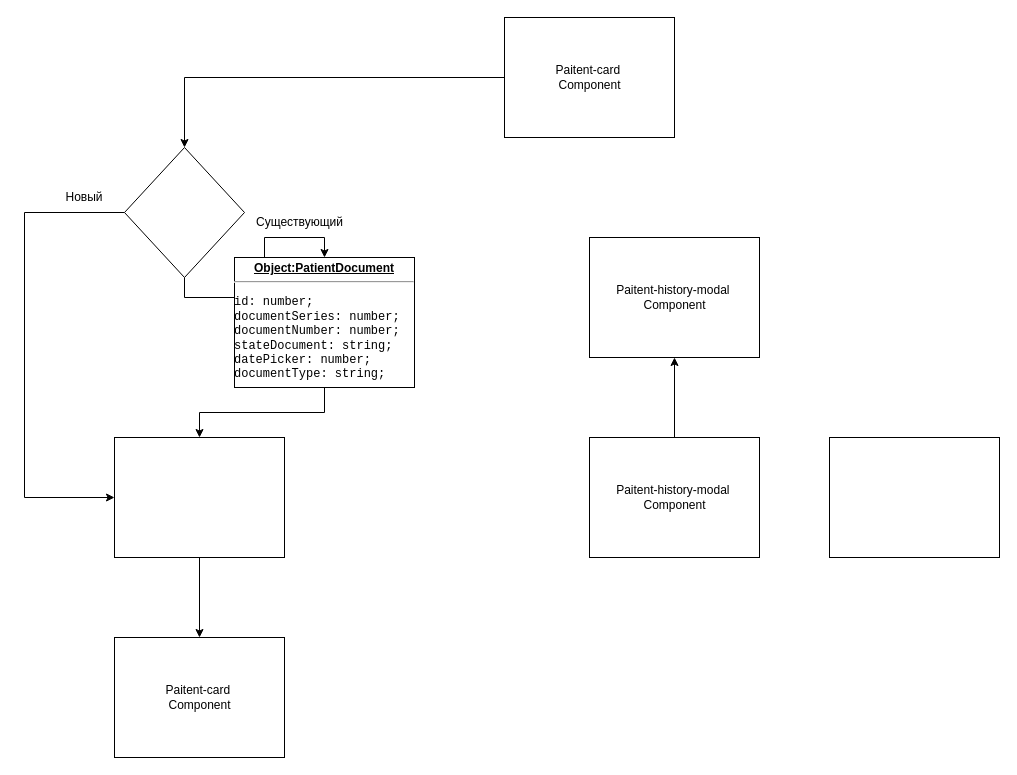
The diagram is 1017 pixels wide and 775 high, and some of its shapes have lost their labels. Each missing label, with the centre of its shape:
Paitent-document-modal Component: (x=199, y=497)
Paitent-union-modal Component: (x=914, y=497)
Определение типа документа: (x=184, y=212)
